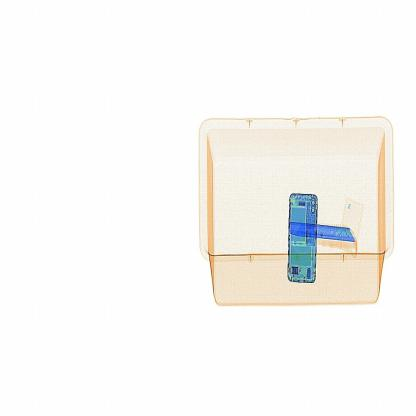pliers: (286, 218, 362, 249)
